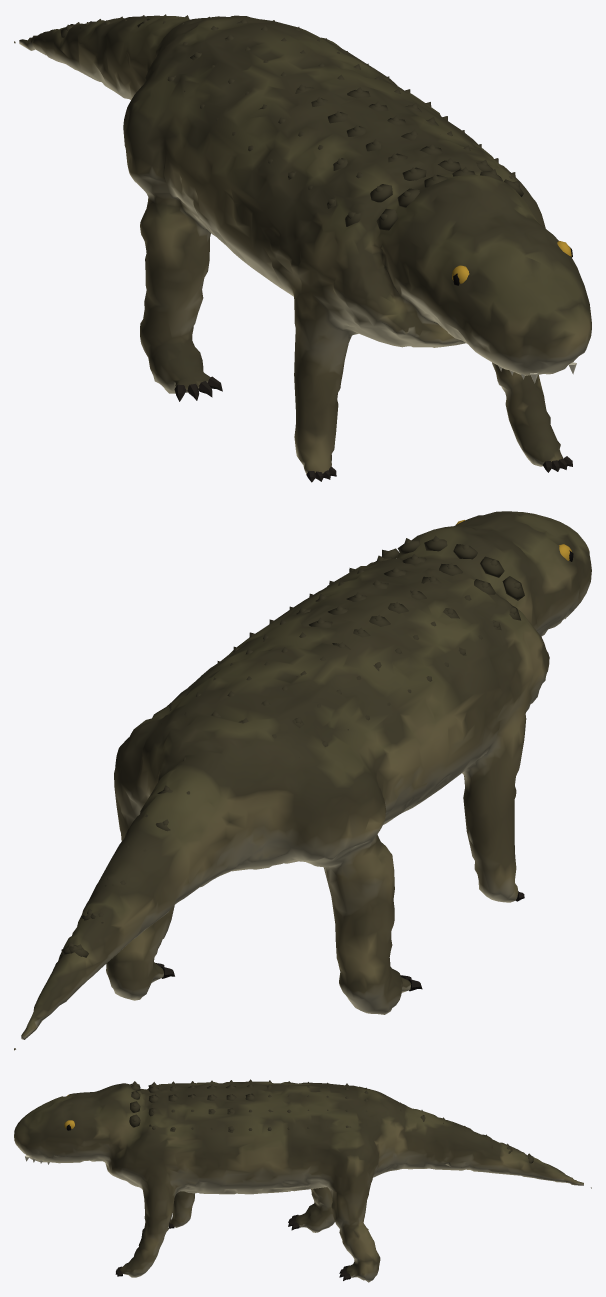
The model's file is Simosuchus.fbx.
3 renders of one model, top to bottom at view 1: azimuth 30°, elevation 25°; view 2: azimuth 150°, elevation 25°; view 3: azimuth 270°, elevation 25°, orthographic. The views are drawn at different scales.
Visible parts, largest first — view 1: Simosuchus; view 2: Simosuchus; view 3: Simosuchus.
Part boxes in pixels (x1,y1,x2,y2): Simosuchus: [14, 14, 591, 482]; Simosuchus: [14, 511, 591, 1050]; Simosuchus: [14, 1079, 591, 1282].
Size of the model in its own units: 0.349 by 0.4354 by 1.35.
